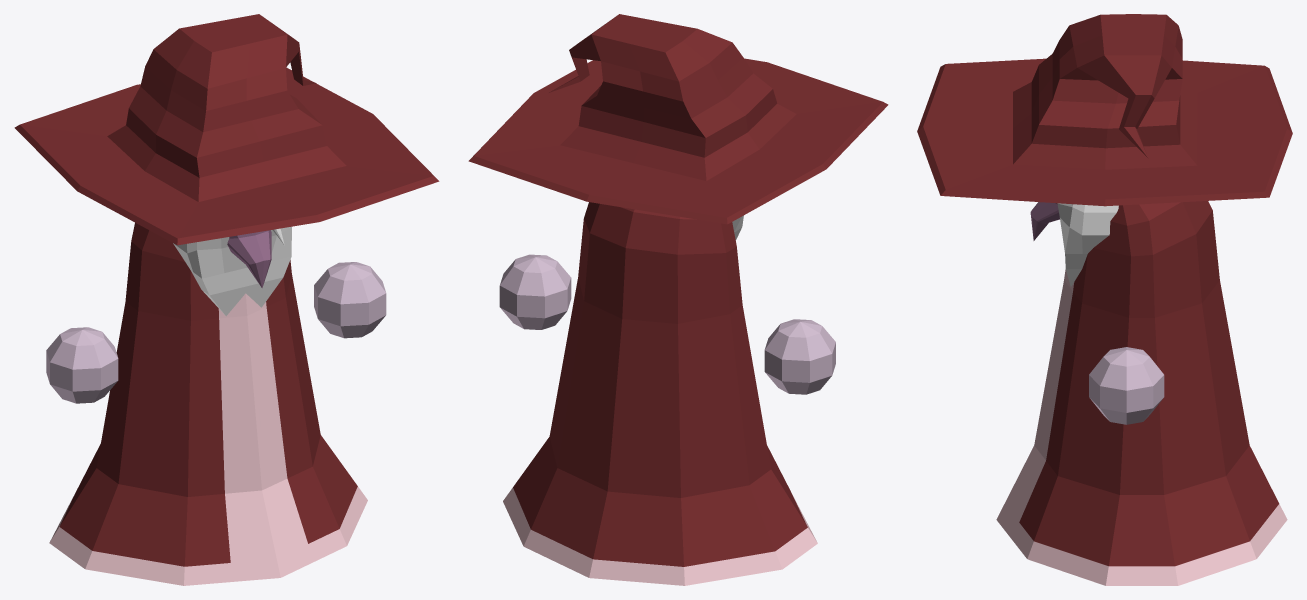
The model's file is eldervillagertexturedre.fbx.
The picture shows the model from 3 angles, left to right: view 1: azimuth 30°, elevation 25°; view 2: azimuth 150°, elevation 25°; view 3: azimuth 270°, elevation 25°; orthographic projection. The views are drawn at different scales.
Parts seen in each view (by area): view 1: Body, Hat, Hands, Cube, Beard; view 2: Body, Hat, Hands; view 3: Body, Hat, Hands, Cube, Beard.
Part boxes in pixels (bbox=[...]): Body: bbox=[49, 222, 367, 585]; Hat: bbox=[14, 14, 439, 245]; Hands: bbox=[46, 262, 386, 403]; Cube: bbox=[173, 226, 291, 316]; Beard: bbox=[227, 230, 271, 287]; Body: bbox=[503, 202, 817, 585]; Hat: bbox=[468, 14, 888, 224]; Hands: bbox=[499, 254, 835, 394]; Body: bbox=[996, 201, 1287, 585]; Hat: bbox=[917, 14, 1292, 206]; Hands: bbox=[1089, 347, 1164, 424]; Cube: bbox=[1057, 203, 1118, 286]; Beard: bbox=[1030, 202, 1059, 240].
Bounding box in the file's own units: 283 × 400 × 275.
